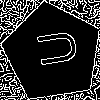U: (27, 27, 78, 70)
